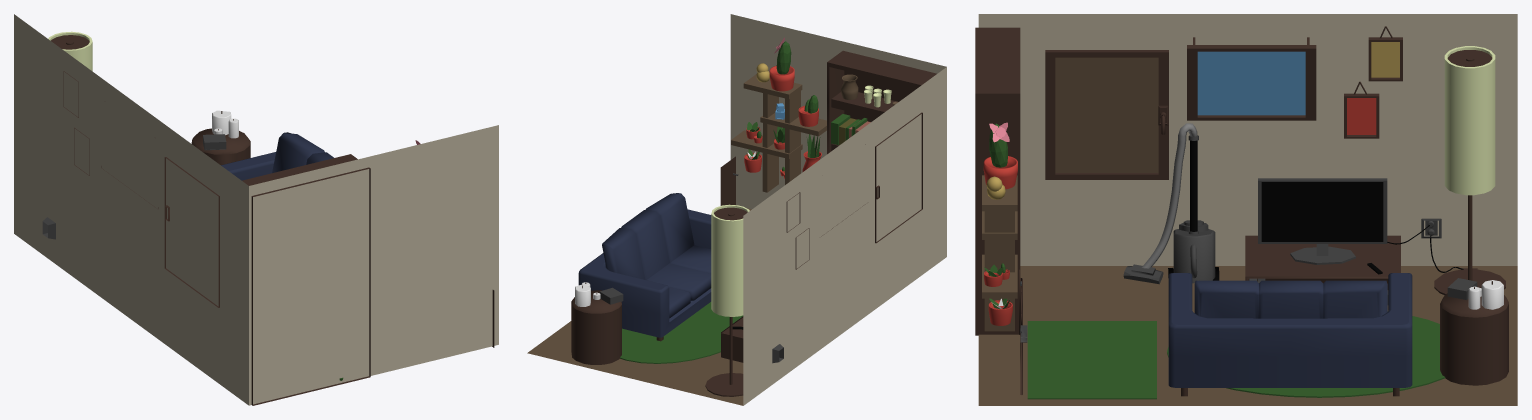
The model's file is LivingRoom.fbx.
3 views of the same model, side by side, from view 1: azimuth 30°, elevation 25°; view 2: azimuth 150°, elevation 25°; view 3: azimuth 270°, elevation 25° (orthographic). The views are drawn at different scales.
Visible parts, largest first — view 1: House, shelf, sofa (unfinished), SideTable, Lamp, Window; view 2: House, sofa (unfinished), shelf, Lamp, Planto stando, carpet 1, SideTable, flowr, Glass objects, TV TABLE, Window; view 3: House, sofa (unfinished), Window, Pictures, carpet 2, TV, Lamp, shelf, SideTable, TV TABLE, Planto stando, Vacuum (+3 smaller).
Boxes of the visible parts, box(x1,y1,x2,y2) form: House: box(14, 14, 498, 405); shelf: box(242, 154, 494, 405); sofa (unfinished): box(221, 132, 333, 180); SideTable: box(191, 110, 250, 164); Lamp: box(48, 31, 92, 71); Window: box(164, 157, 219, 307); House: box(527, 14, 946, 405); sofa (unfinished): box(578, 193, 711, 341); shelf: box(720, 50, 936, 205); Lamp: box(705, 204, 749, 396); Planto stando: box(731, 74, 826, 192); carpet 1: box(620, 302, 743, 363); SideTable: box(571, 282, 623, 364); flowr: box(744, 37, 821, 178); Glass objects: box(831, 74, 898, 144); TV TABLE: box(721, 316, 743, 362); Window: box(875, 112, 922, 243); House: box(978, 14, 1517, 405); sofa (unfinished): box(1168, 273, 1412, 396); Window: box(1045, 50, 1168, 179); Pictures: box(1187, 26, 1402, 138); carpet 2: box(1027, 321, 1156, 399); TV: box(1258, 178, 1387, 264); Lamp: box(1434, 46, 1505, 295); shelf: box(975, 27, 1027, 394); SideTable: box(1440, 278, 1508, 385); TV TABLE: box(1245, 235, 1400, 304); Planto stando: box(982, 175, 1017, 331); Vacuum: box(1123, 135, 1219, 284).
Bounding box in the file's own units: 525 × 438 × 840.
